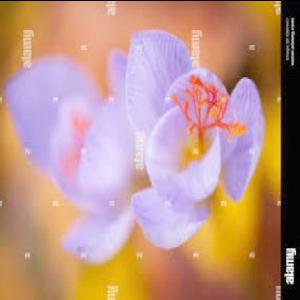Saffron: (130, 26, 265, 250)
